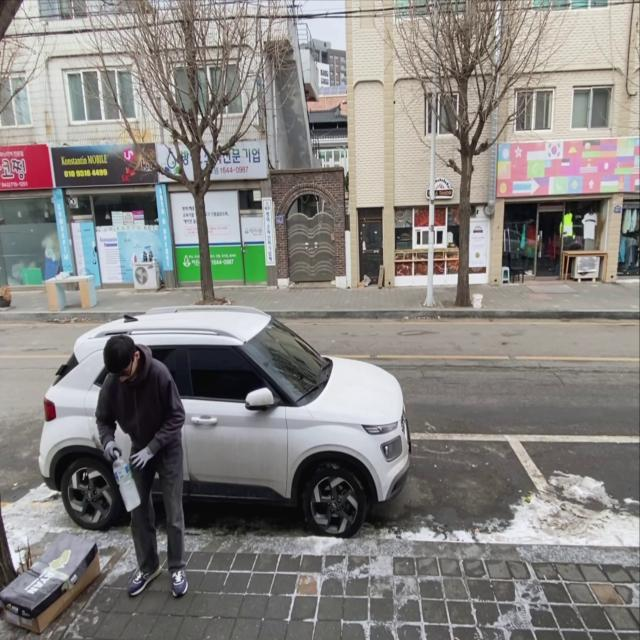gloved_hand: (132, 445, 154, 471), (106, 440, 122, 464)
